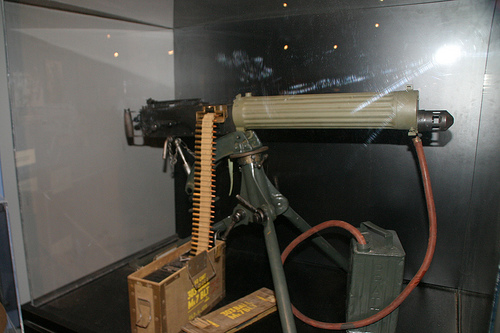rifle: (119, 63, 452, 254)
